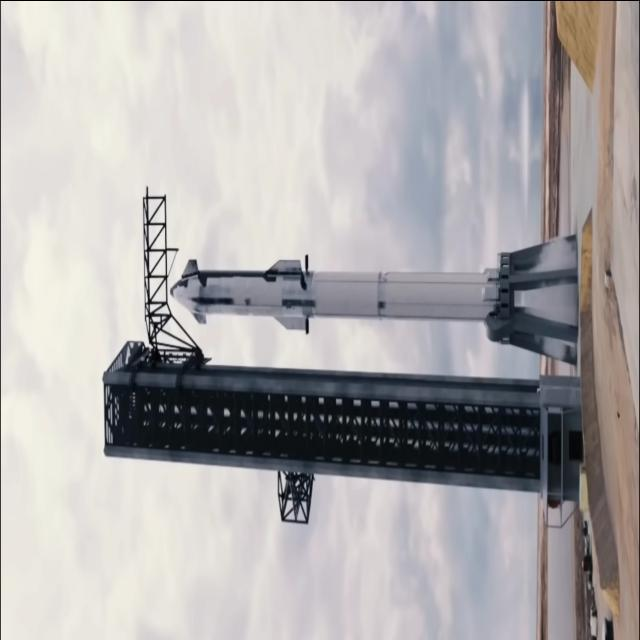Missile: (162, 257, 499, 330)
